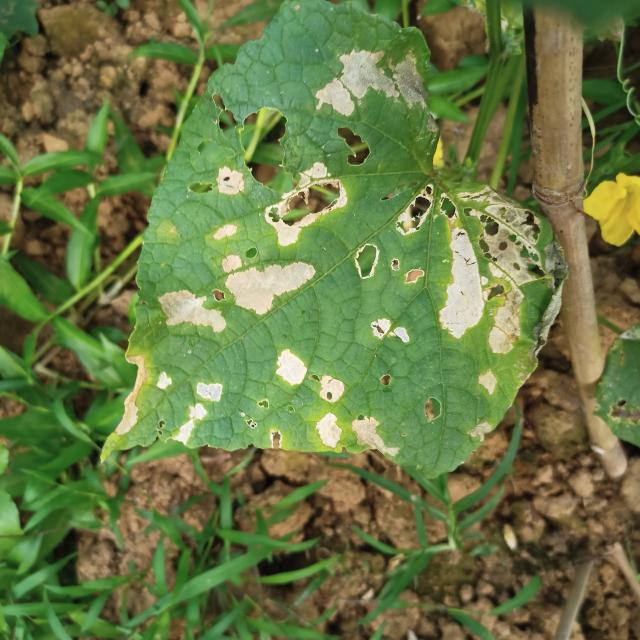disease_cucumber: (113, 31, 561, 468)
